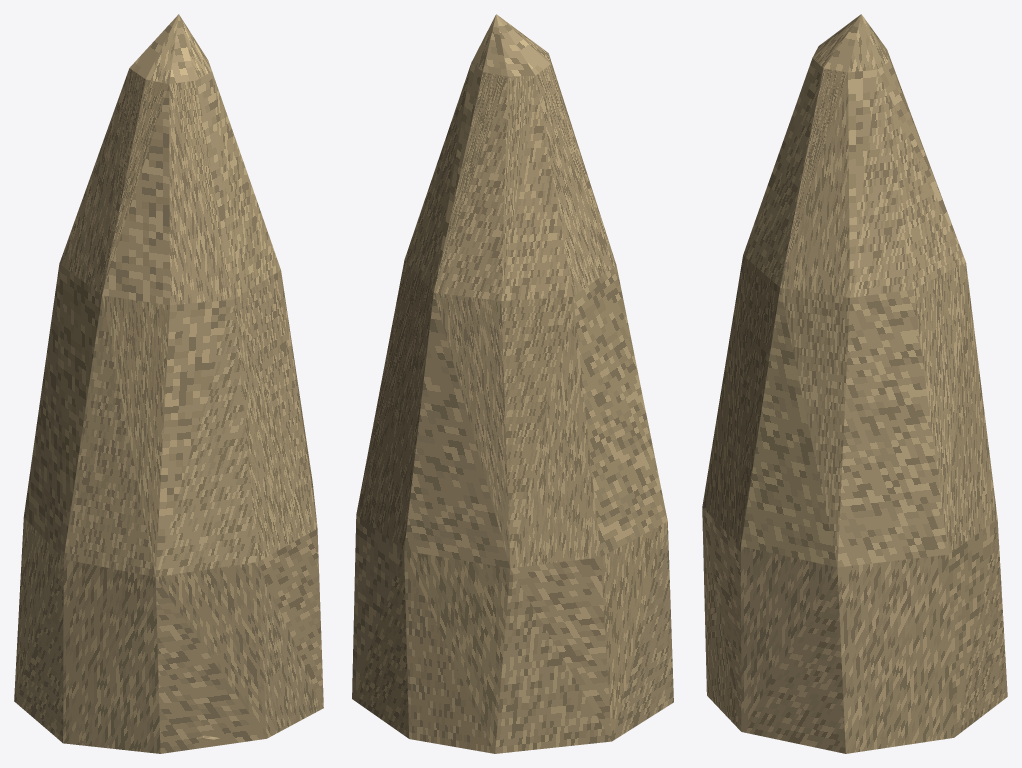
File: f_sand_mound_tall.glb
The picture shows the model from 3 angles, left to right: view 1: azimuth 30°, elevation 25°; view 2: azimuth 150°, elevation 25°; view 3: azimuth 270°, elevation 25°; orthographic projection.
Visible parts, largest first — view 1: block_heaped-sand; view 2: block_heaped-sand; view 3: block_heaped-sand.
Part boxes in pixels (<box>): block_heaped-sand: <box>14,14,323,753</box>; block_heaped-sand: <box>352,14,673,753</box>; block_heaped-sand: <box>702,14,1007,753</box>.
Size of the model in its own units: 0.905 by 2.1 by 0.8601.
Materials: 1 (1 with a texture image).
